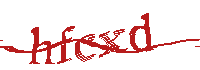c: (75, 34, 97, 62)
d: (130, 12, 152, 53)
f: (56, 23, 75, 66)
h: (29, 25, 55, 66)
x: (98, 28, 126, 57)
